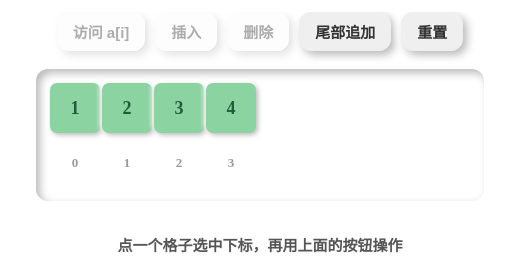
Test: ArrayViz › TC-VIZ-ARRAYVIZ-03 insert 增元素、新值落 i、下标≠值
The width and height of the screenshot is (529, 271).
Click the button with class "cell" showing "3". click: (179, 108)
box: [154, 83, 204, 133]
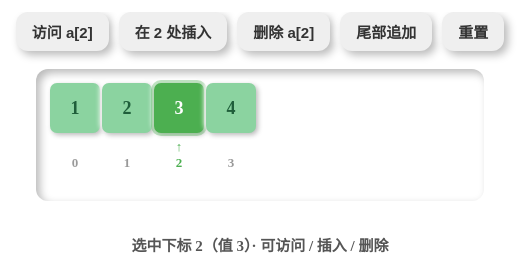
Click the button "在 2 处插入". click: (173, 32)
box: [119, 12, 227, 51]
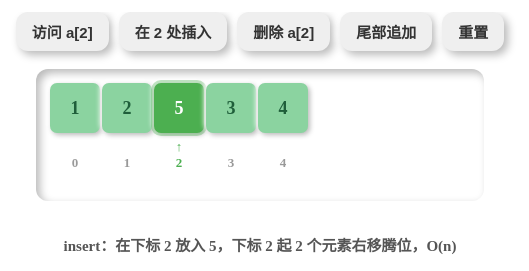
Check: the button with class "cell" reads "3", box [206, 83, 256, 133]
Check: the number of buttons with class "cell" is 5, box [50, 83, 100, 133]; [102, 83, 152, 133]; [154, 83, 204, 133]; [206, 83, 256, 133]; [258, 83, 308, 133]
Check: the button with class "cell" reads "5", box [154, 83, 204, 133]
